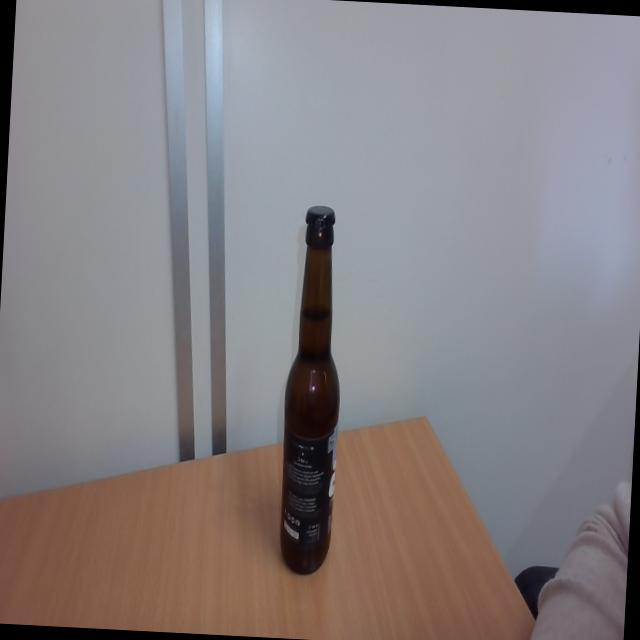Bottle: (276, 233, 348, 578)
Cap: (304, 202, 336, 233)
Label: (278, 427, 338, 549)
